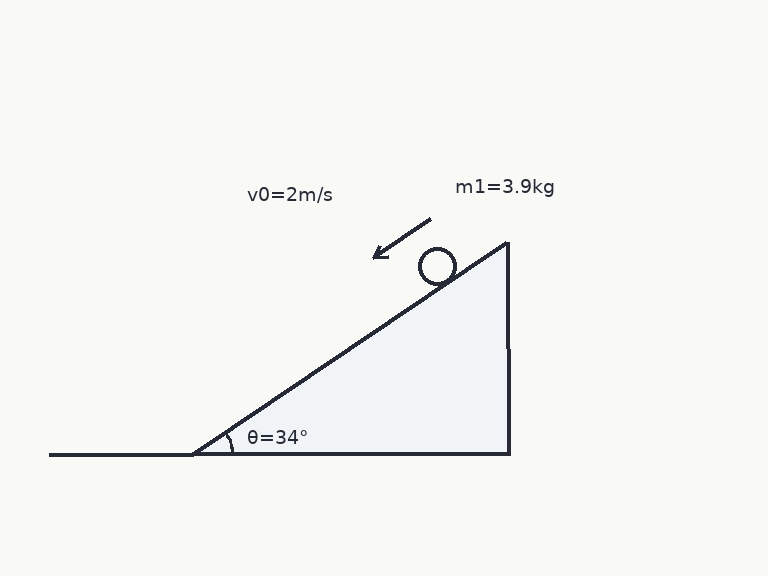ball: (416, 245, 458, 287)
ramp: (190, 240, 509, 456)
